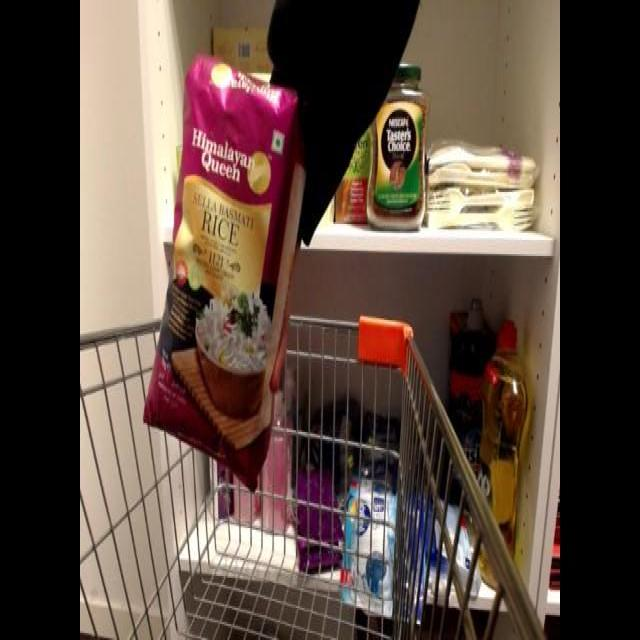Basmati Rice: (140, 51, 304, 502)
